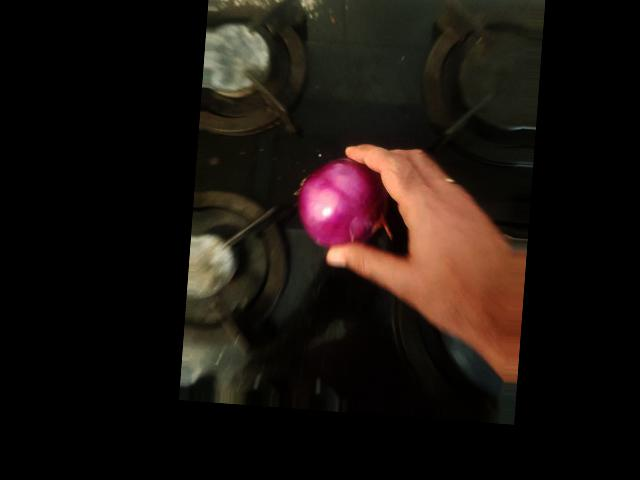onion: (259, 67, 347, 158)
